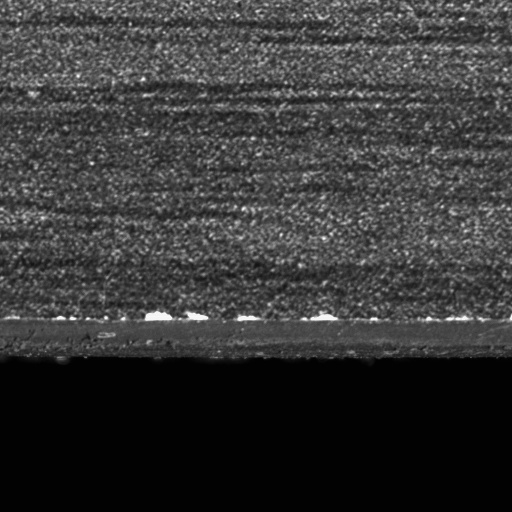huashang: (143, 311, 209, 323), (301, 313, 339, 321)
